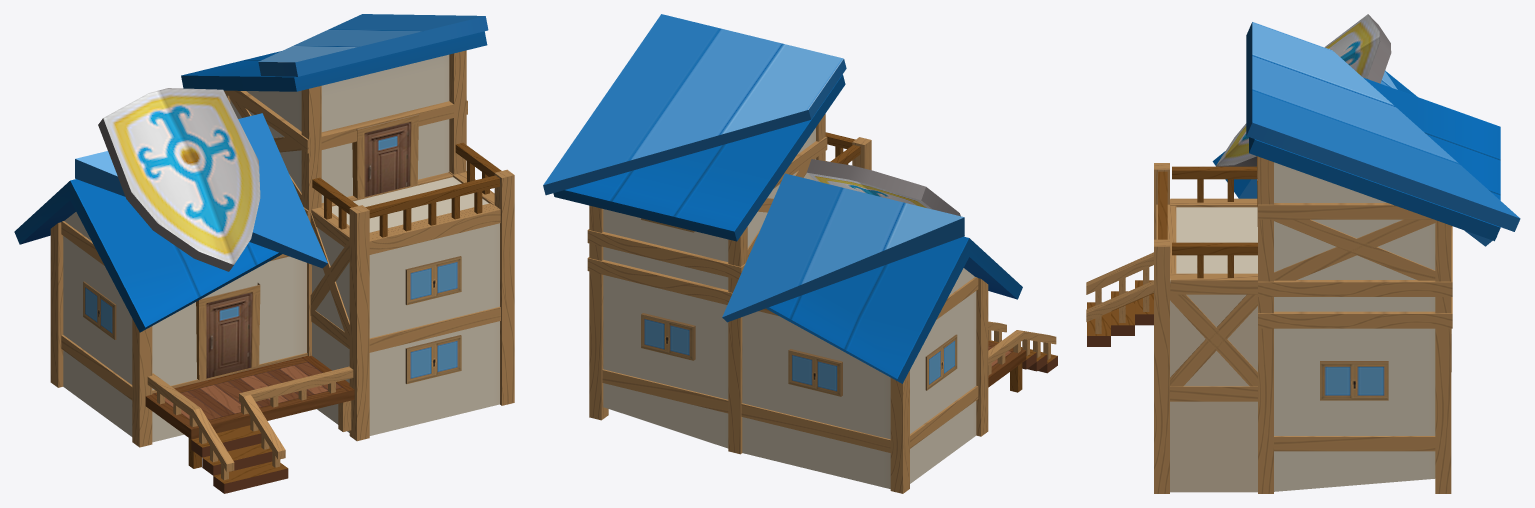
The model's file is building_Armor_lv4.FBX.
3 renders of one model, left to right at view 1: azimuth 30°, elevation 25°; view 2: azimuth 150°, elevation 25°; view 3: azimuth 270°, elevation 25°, orthographic. The views are drawn at different scales.
Visible parts, largest first — view 1: building_Armor_lv4, building_Armor_roof_main_lv4; view 2: building_Armor_roof_main_lv4, building_Armor_lv4; view 3: building_Armor_roof_main_lv4, building_Armor_lv4.
Part boxes in pixels (box(x1,y1,x2,y2)): building_Armor_lv4: box(50, 50, 514, 493); building_Armor_roof_main_lv4: box(14, 14, 499, 442); building_Armor_roof_main_lv4: box(543, 14, 1022, 488); building_Armor_lv4: box(587, 114, 1057, 493); building_Armor_roof_main_lv4: box(1170, 22, 1520, 492); building_Armor_lv4: box(1086, 14, 1452, 493).
Bounding box in the file's own units: 577 × 523 × 542.
